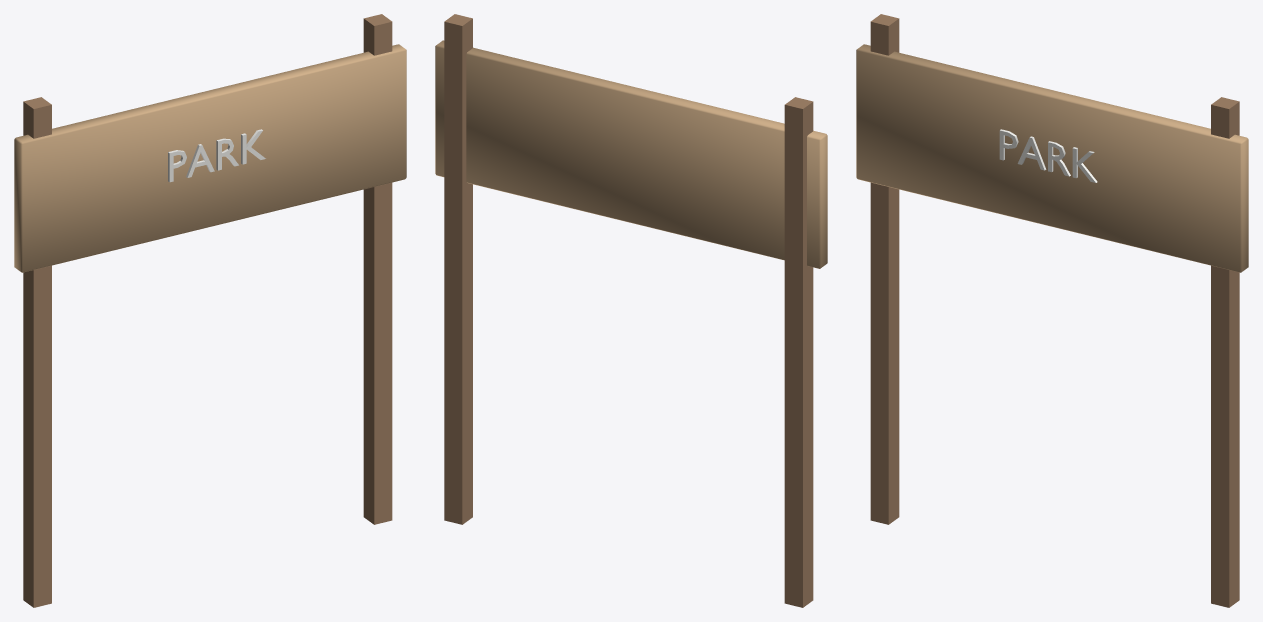
File: ParkSign.fbx
3 views of the same model, side by side, from view 1: azimuth 30°, elevation 25°; view 2: azimuth 150°, elevation 25°; view 3: azimuth 330°, elevation 25° (orthographic).
Parts seen in each view (by area): view 1: LOD0; view 2: LOD0; view 3: LOD0.
Part boxes in pixels (<box>): LOD0: <box>14,14,406,607</box>; LOD0: <box>435,14,827,607</box>; LOD0: <box>856,14,1248,607</box>.
Size of what is drawn, in the model's own units: 170 by 210 by 10.6.
